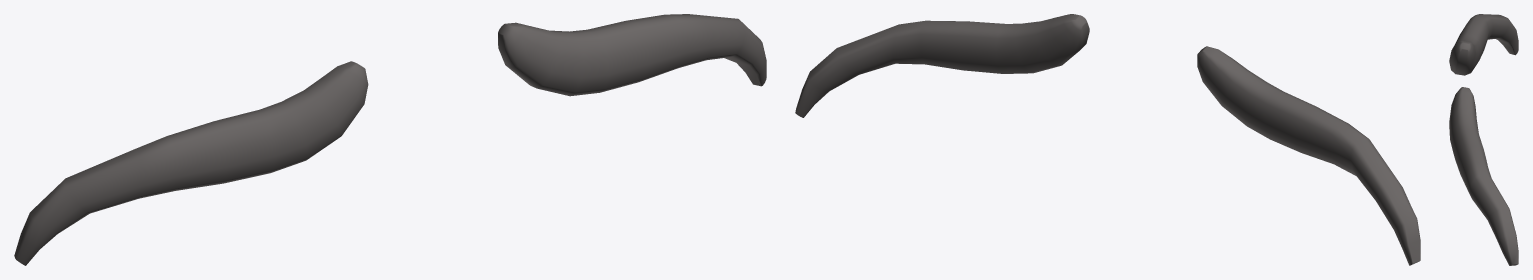
The model's file is Eyebrows_22_04.fbx.
3 renders of one model, left to right at view 1: azimuth 30°, elevation 25°; view 2: azimuth 150°, elevation 25°; view 3: azimuth 270°, elevation 25°, orthographic. The views are drawn at different scales.
Parts seen in each view (by area): view 1: Eyebrows_22_04; view 2: Eyebrows_22_04; view 3: Eyebrows_22_04.
Part boxes in pixels (bbox=[...]): Eyebrows_22_04: bbox=[14, 14, 766, 265]; Eyebrows_22_04: bbox=[795, 14, 1420, 265]; Eyebrows_22_04: bbox=[1449, 14, 1518, 265].
Size of the model in its own units: 18.69 by 3.84 by 2.54.
